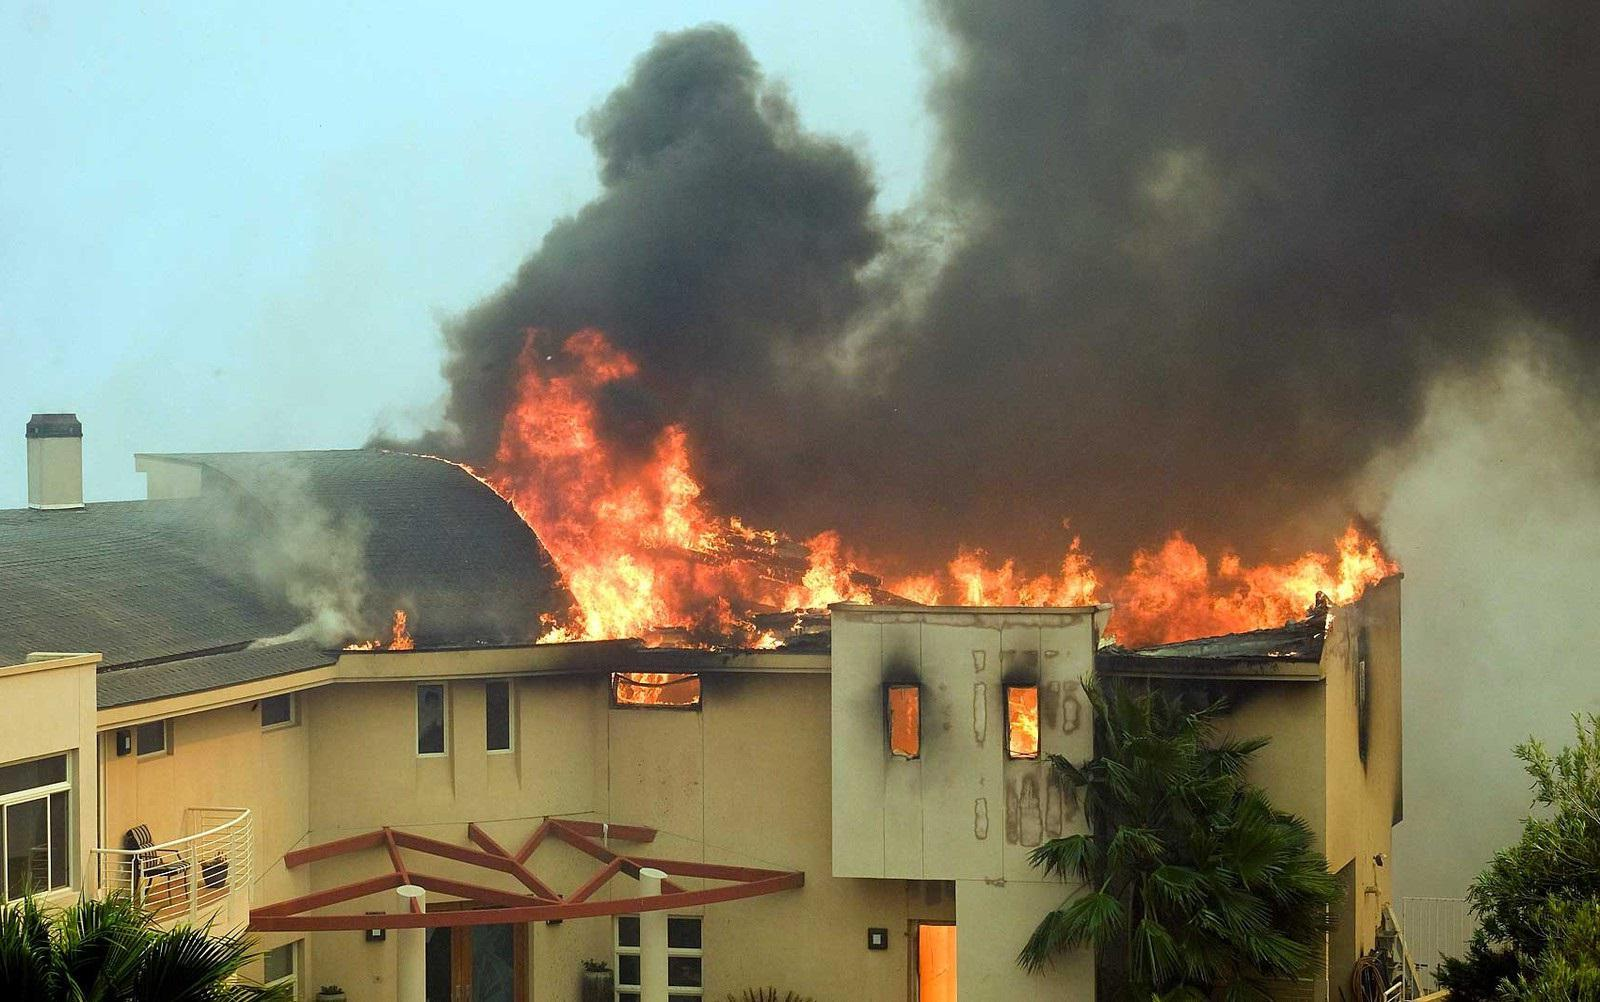Fire: (518, 517, 1388, 649), (502, 332, 706, 649), (622, 674, 697, 710), (352, 608, 406, 655), (1010, 700, 1037, 757)
